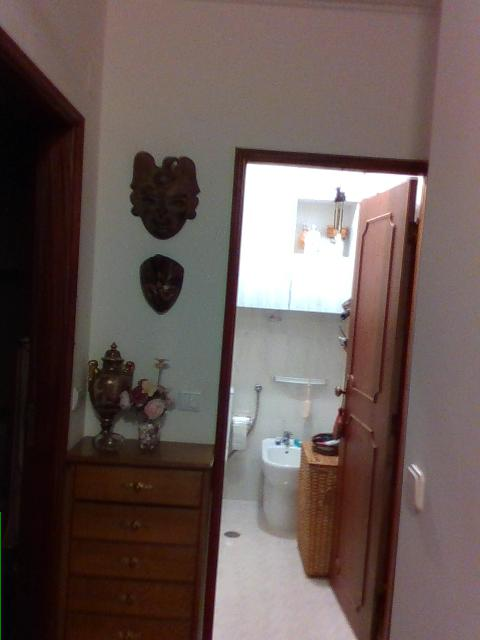door: (334, 178, 417, 640)
